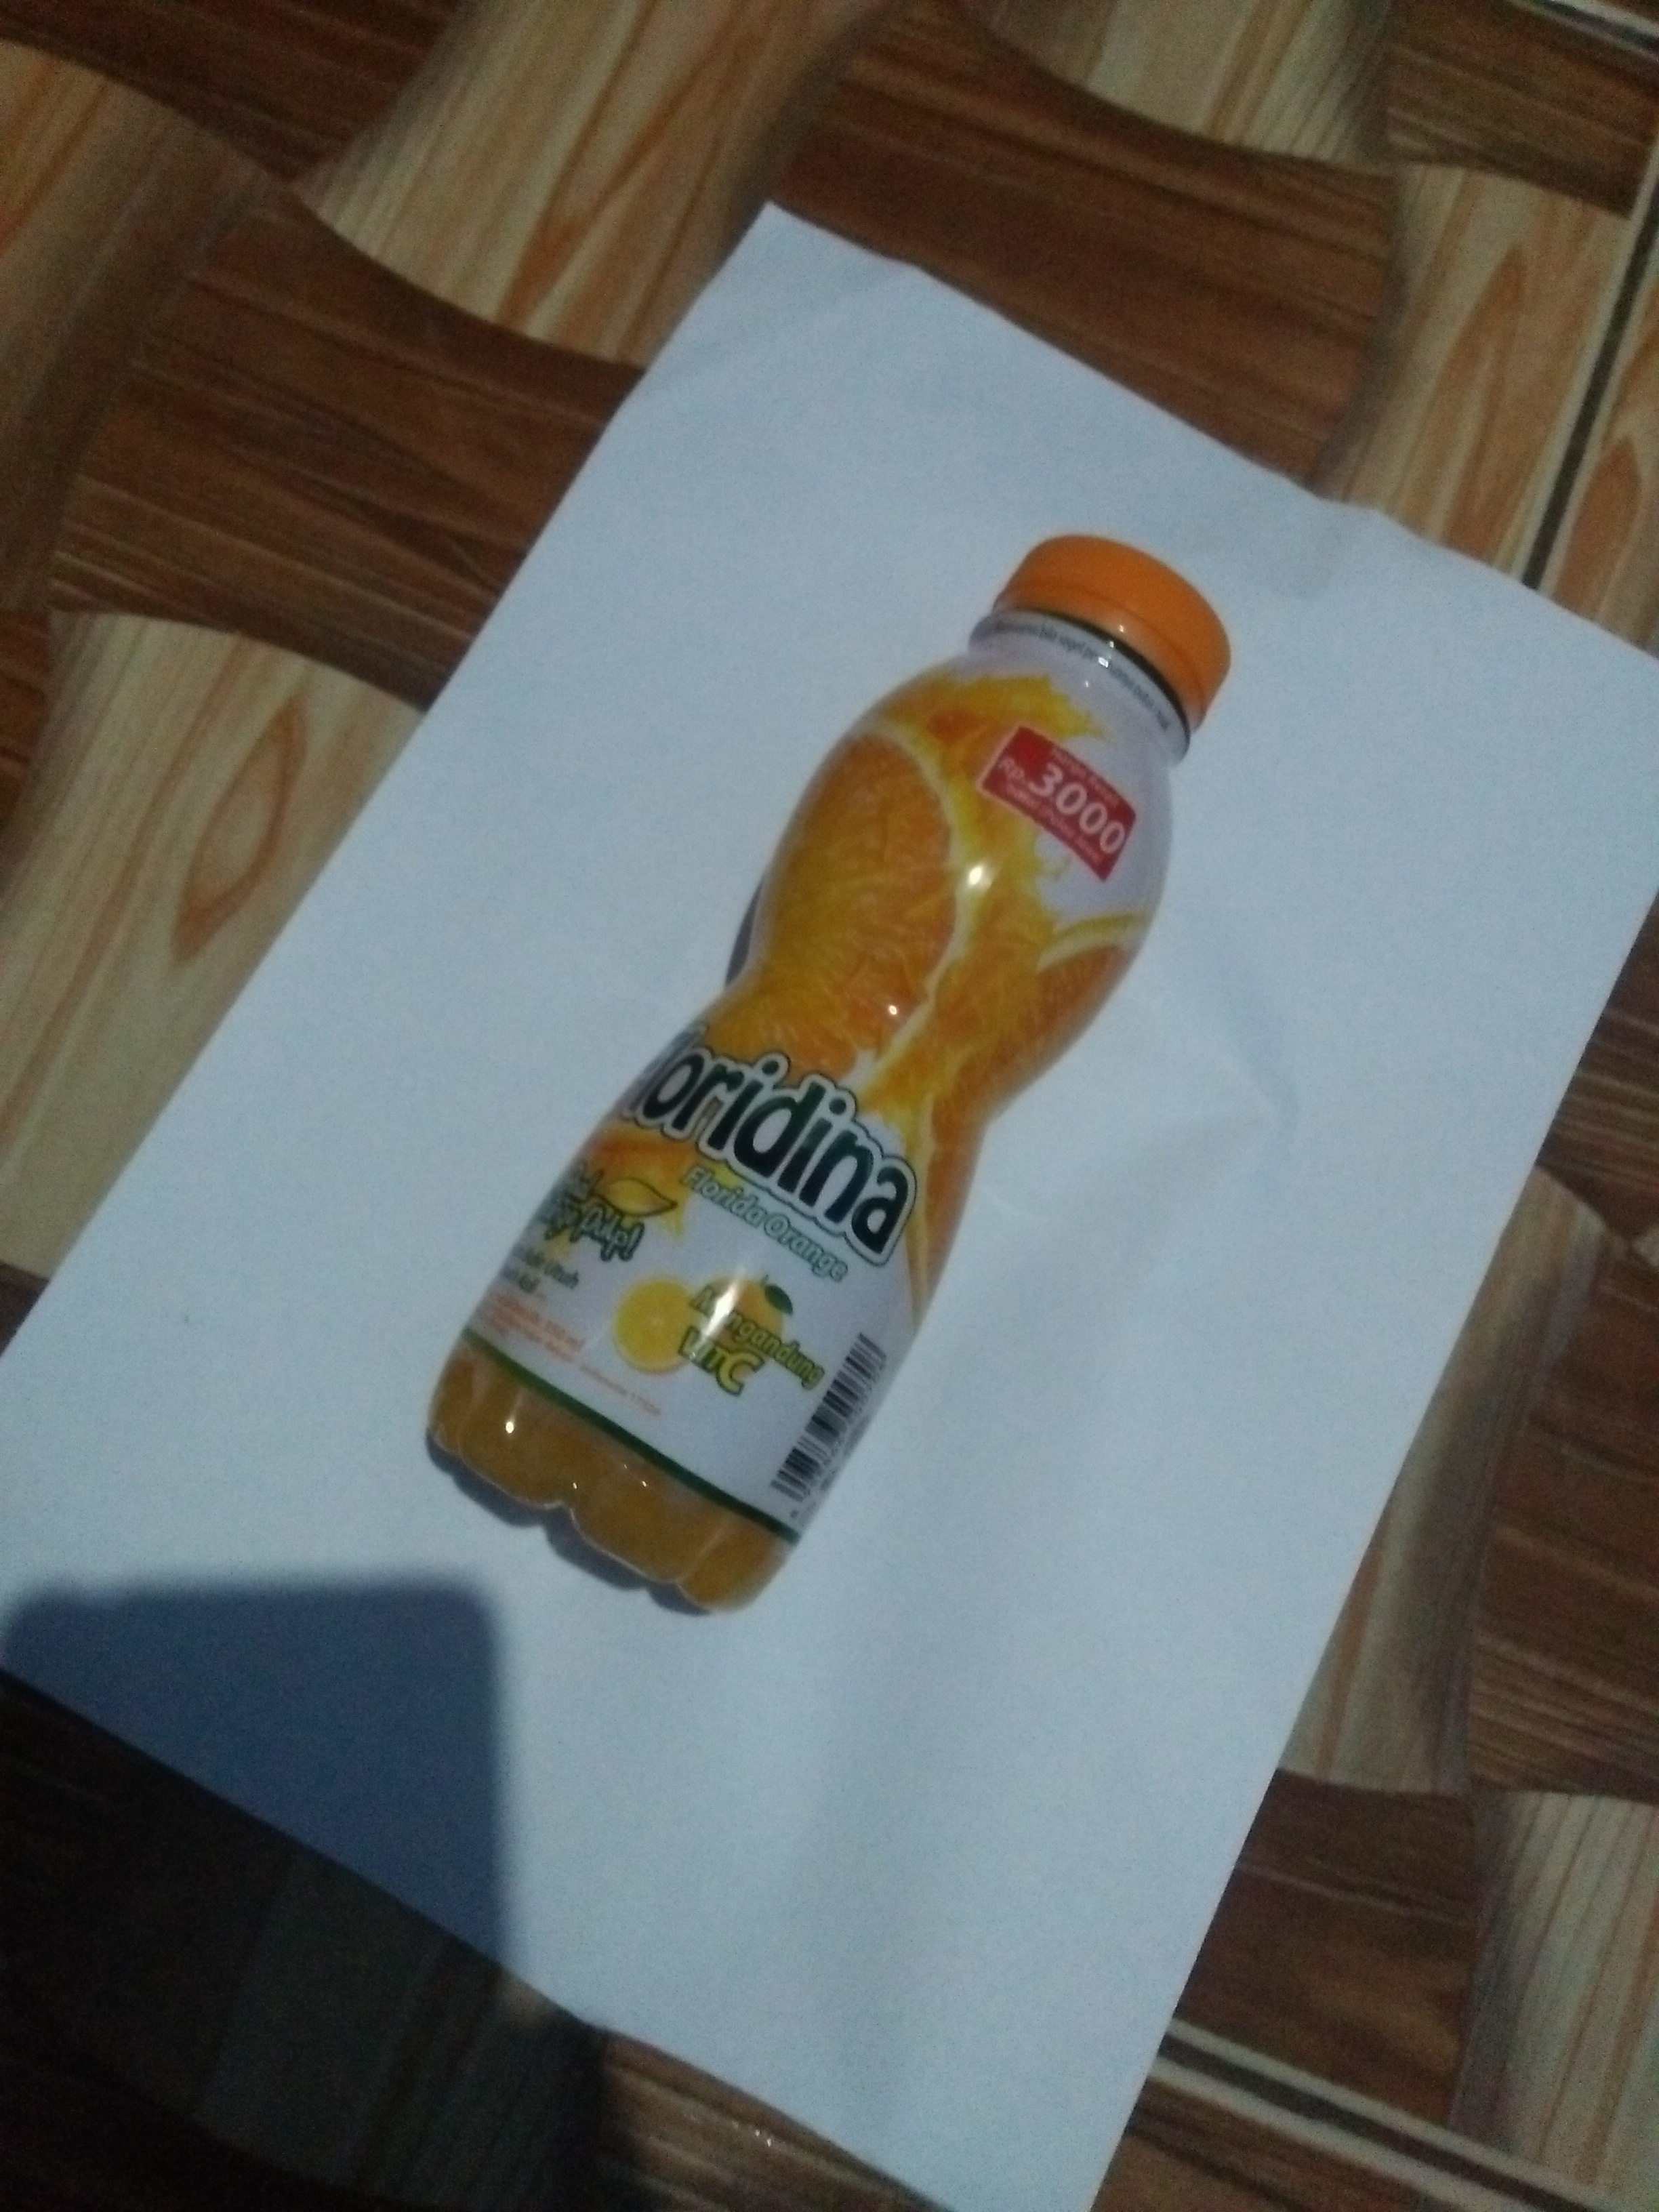Floridina: (418, 524, 1248, 1629)
